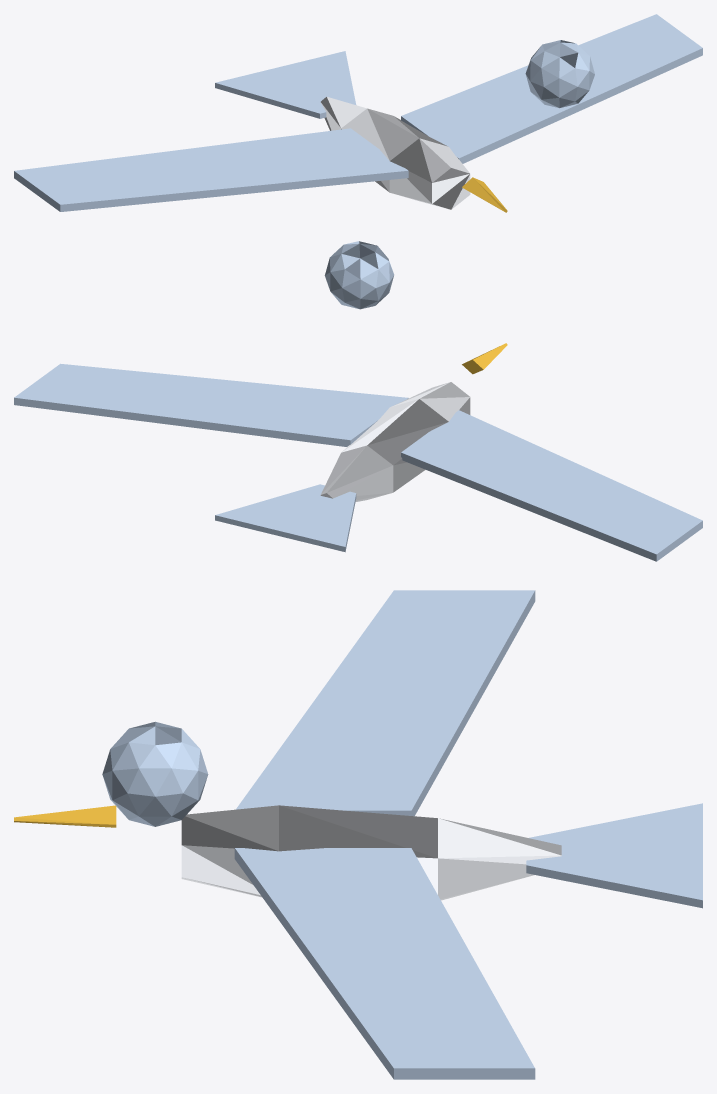
Rendered from Bird.obj.
3 renders of one model, top to bottom at view 1: azimuth 30°, elevation 25°; view 2: azimuth 150°, elevation 25°; view 3: azimuth 270°, elevation 25°, orthographic. The views are drawn at different scales.
Visible parts, largest first — view 1: WingL, WingR, Body, Tail, Head, Beak; view 2: WingR, WingL, Body, Tail, Head, Beak; view 3: WingR, WingL, Body, Tail, Head, Beak.
Part boxes in pixels (x1=…): WingL: x1=14, y1=128, x2=408, y2=211; WingR: x1=401, y1=14, x2=702, y2=163; Body: x1=320, y1=96, x2=470, y2=209; Tail: x1=215, y1=51, x2=356, y2=118; Head: x1=525, y1=40, x2=594, y2=108; Beak: x1=462, y1=177, x2=507, y2=212; WingR: x1=14, y1=363, x2=408, y2=446; WingL: x1=401, y1=410, x2=702, y2=561; Body: x1=320, y1=382, x2=470, y2=501; Tail: x1=215, y1=484, x2=356, y2=552; Head: x1=324, y1=241, x2=394, y2=309; Beak: x1=462, y1=343, x2=507, y2=374; WingR: x1=234, y1=848, x2=535, y2=1079; WingL: x1=236, y1=590, x2=535, y2=816; Body: x1=181, y1=805, x2=561, y2=900; Tail: x1=526, y1=803, x2=702, y2=908; Head: x1=102, y1=721, x2=208, y2=826; Beak: x1=14, y1=805, x2=116, y2=827.
Size of the model in its own units: 6.4 by 1.56 by 3.9.
